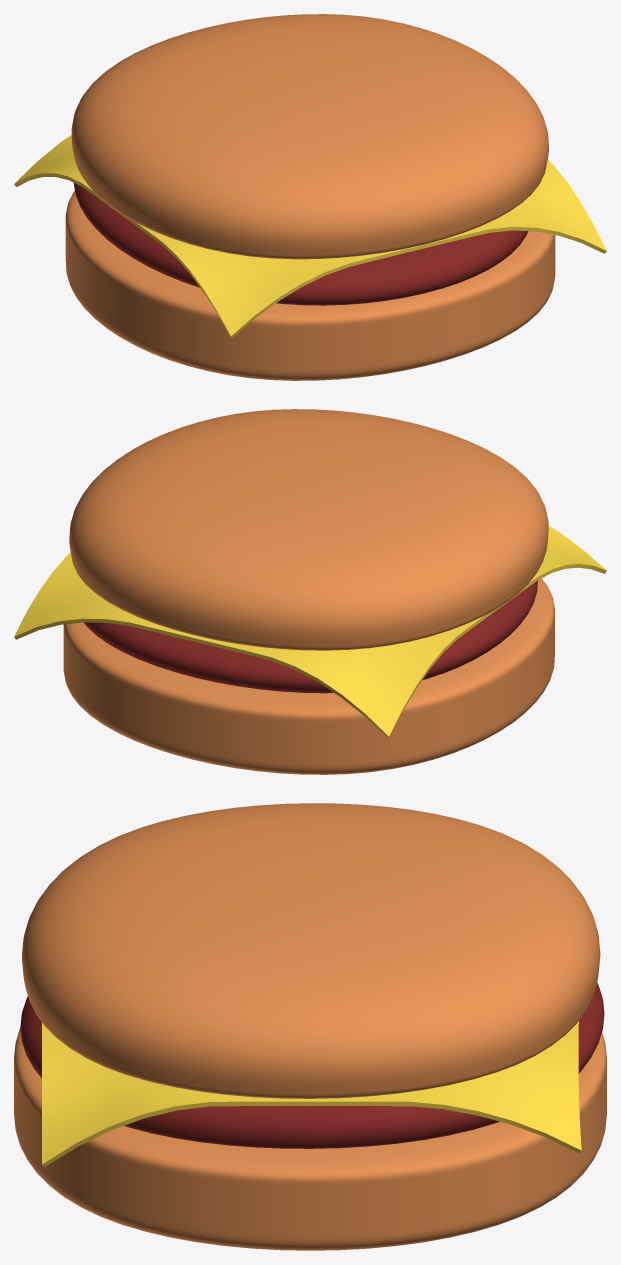
The model's file is hamburger.glb.
3 renders of one model, top to bottom at view 1: azimuth 30°, elevation 25°; view 2: azimuth 150°, elevation 25°; view 3: azimuth 270°, elevation 25°, orthographic. The views are drawn at different scales.
Visible parts, largest first — view 1: Cube.002, Cube, Plane, Cube.001; view 2: Cube.002, Cube, Plane, Cube.001; view 3: Cube.002, Cube, Plane, Cube.001.
Boxes of the visible parts, bbox=[...] form: Cube.002: bbox=[71, 14, 548, 259]; Cube: bbox=[65, 191, 555, 380]; Plane: bbox=[14, 135, 606, 338]; Cube.001: bbox=[74, 183, 528, 305]; Cube.002: bbox=[69, 409, 548, 650]; Cube: bbox=[63, 578, 554, 774]; Plane: bbox=[14, 526, 606, 738]; Cube.001: bbox=[84, 580, 537, 693]; Cube.002: bbox=[22, 803, 600, 1098]; Cube: bbox=[14, 1028, 606, 1250]; Plane: bbox=[42, 1021, 581, 1167]; Cube.001: bbox=[20, 983, 604, 1148].
Bounding box in the file's own units: 9.27 × 4.54 × 9.27.
